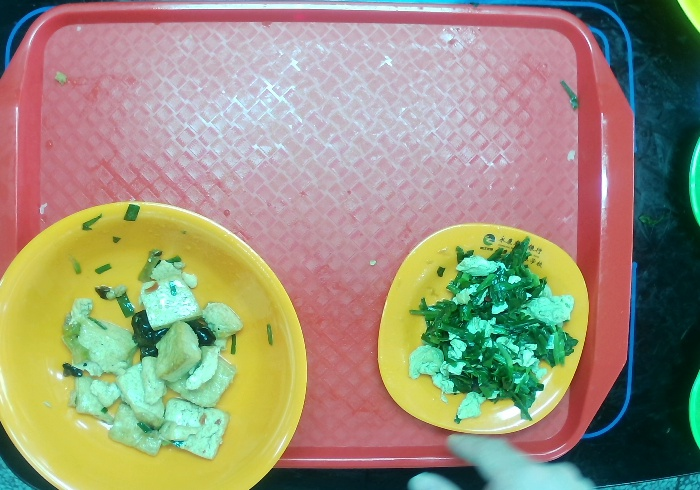YKMZ-Ju_Se_Fang_Die: (374, 219, 590, 442)
YKMZ-Ju_Se_Tang_Wan: (1, 195, 316, 490)
